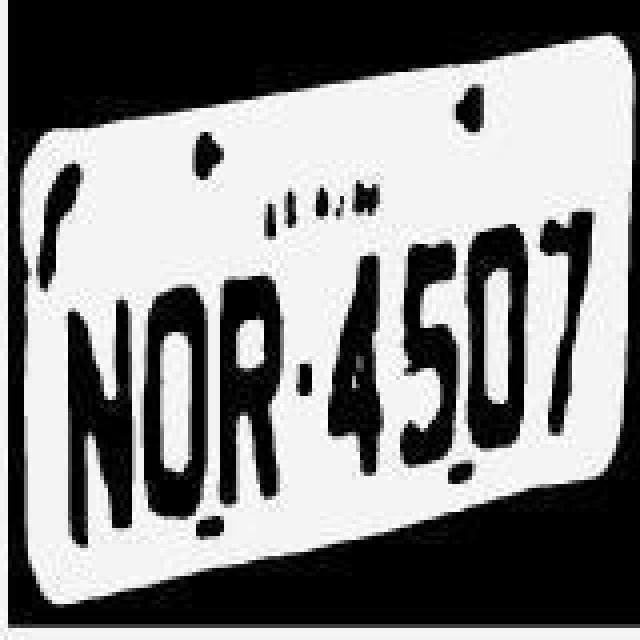4: (322, 238, 398, 474)
5: (392, 234, 464, 470)
7: (530, 178, 606, 454)
N: (58, 290, 134, 542)
O: (138, 258, 214, 526), (460, 208, 532, 456)
R: (216, 268, 296, 508)
